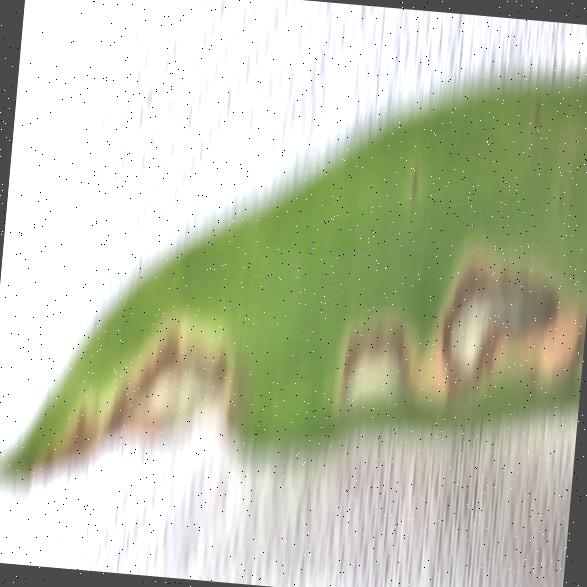Leaf_smut: (300, 244, 587, 437)
